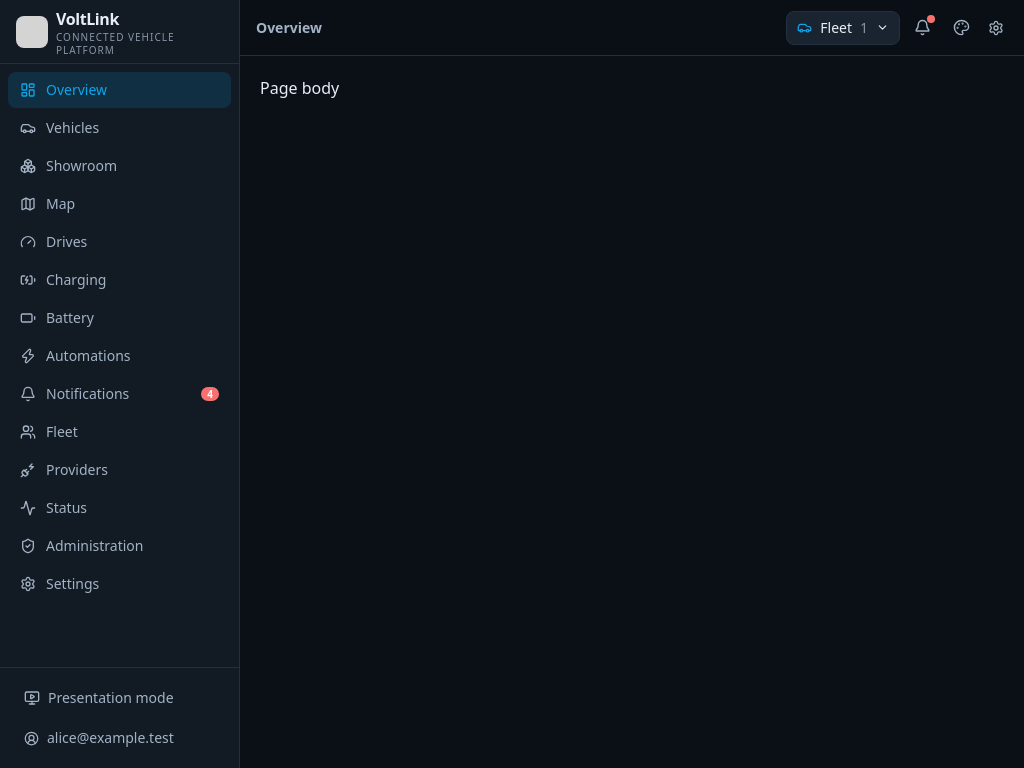
Shell page › navigates to notifications from the unread bell
What coordinates should you click on to do the following:
click the link named "Notifications (4 unread)"
I would click on:
 (924, 26)
Its box is [914, 15, 935, 36].
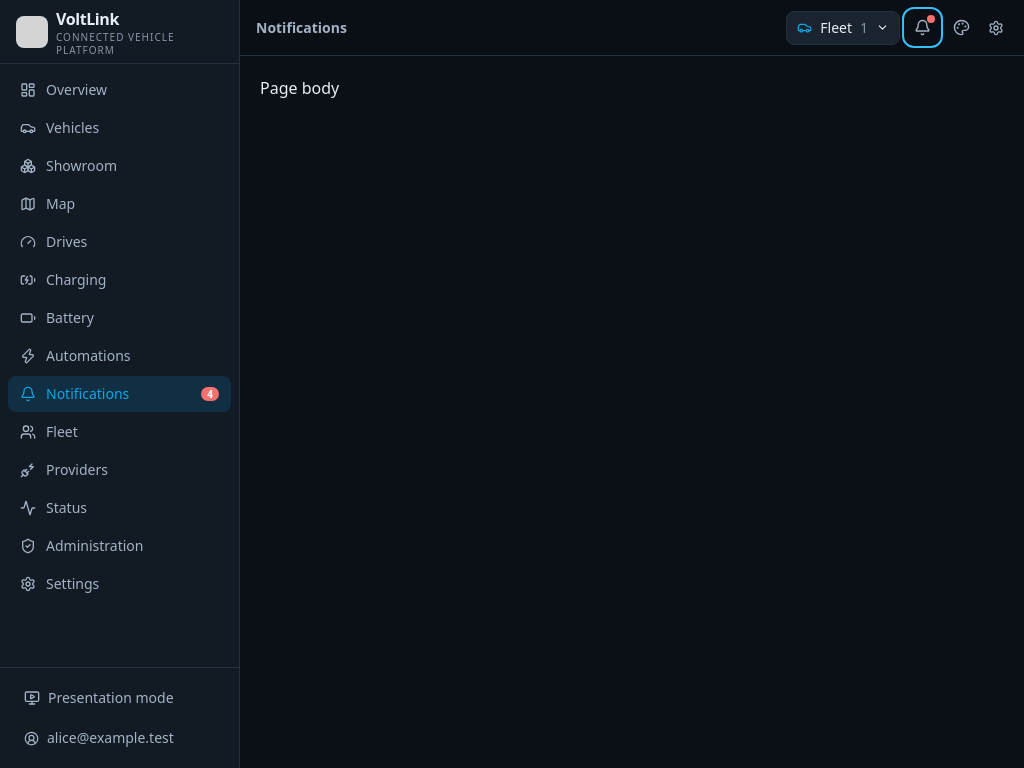
Now the heading "Notifications" is shown, box [256, 18, 347, 38]
